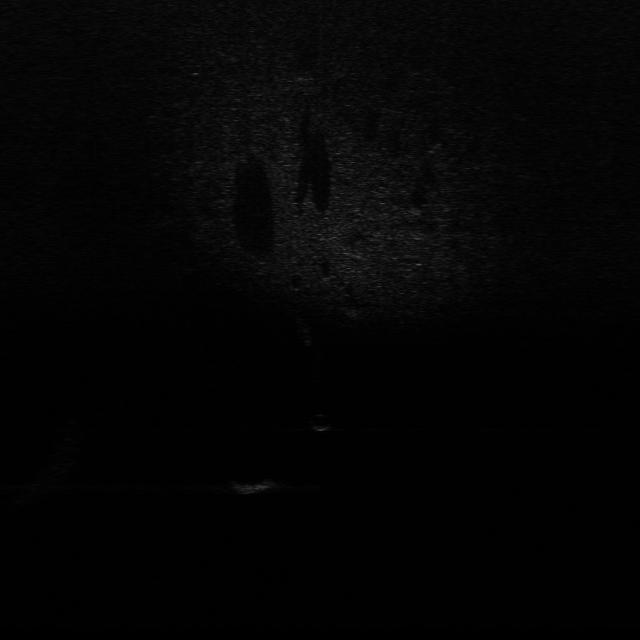ball: (312, 414, 336, 434)
human body: (293, 307, 316, 345)
square cage: (237, 474, 276, 496)
